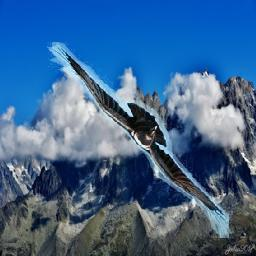Crow: (48, 42, 233, 238)
